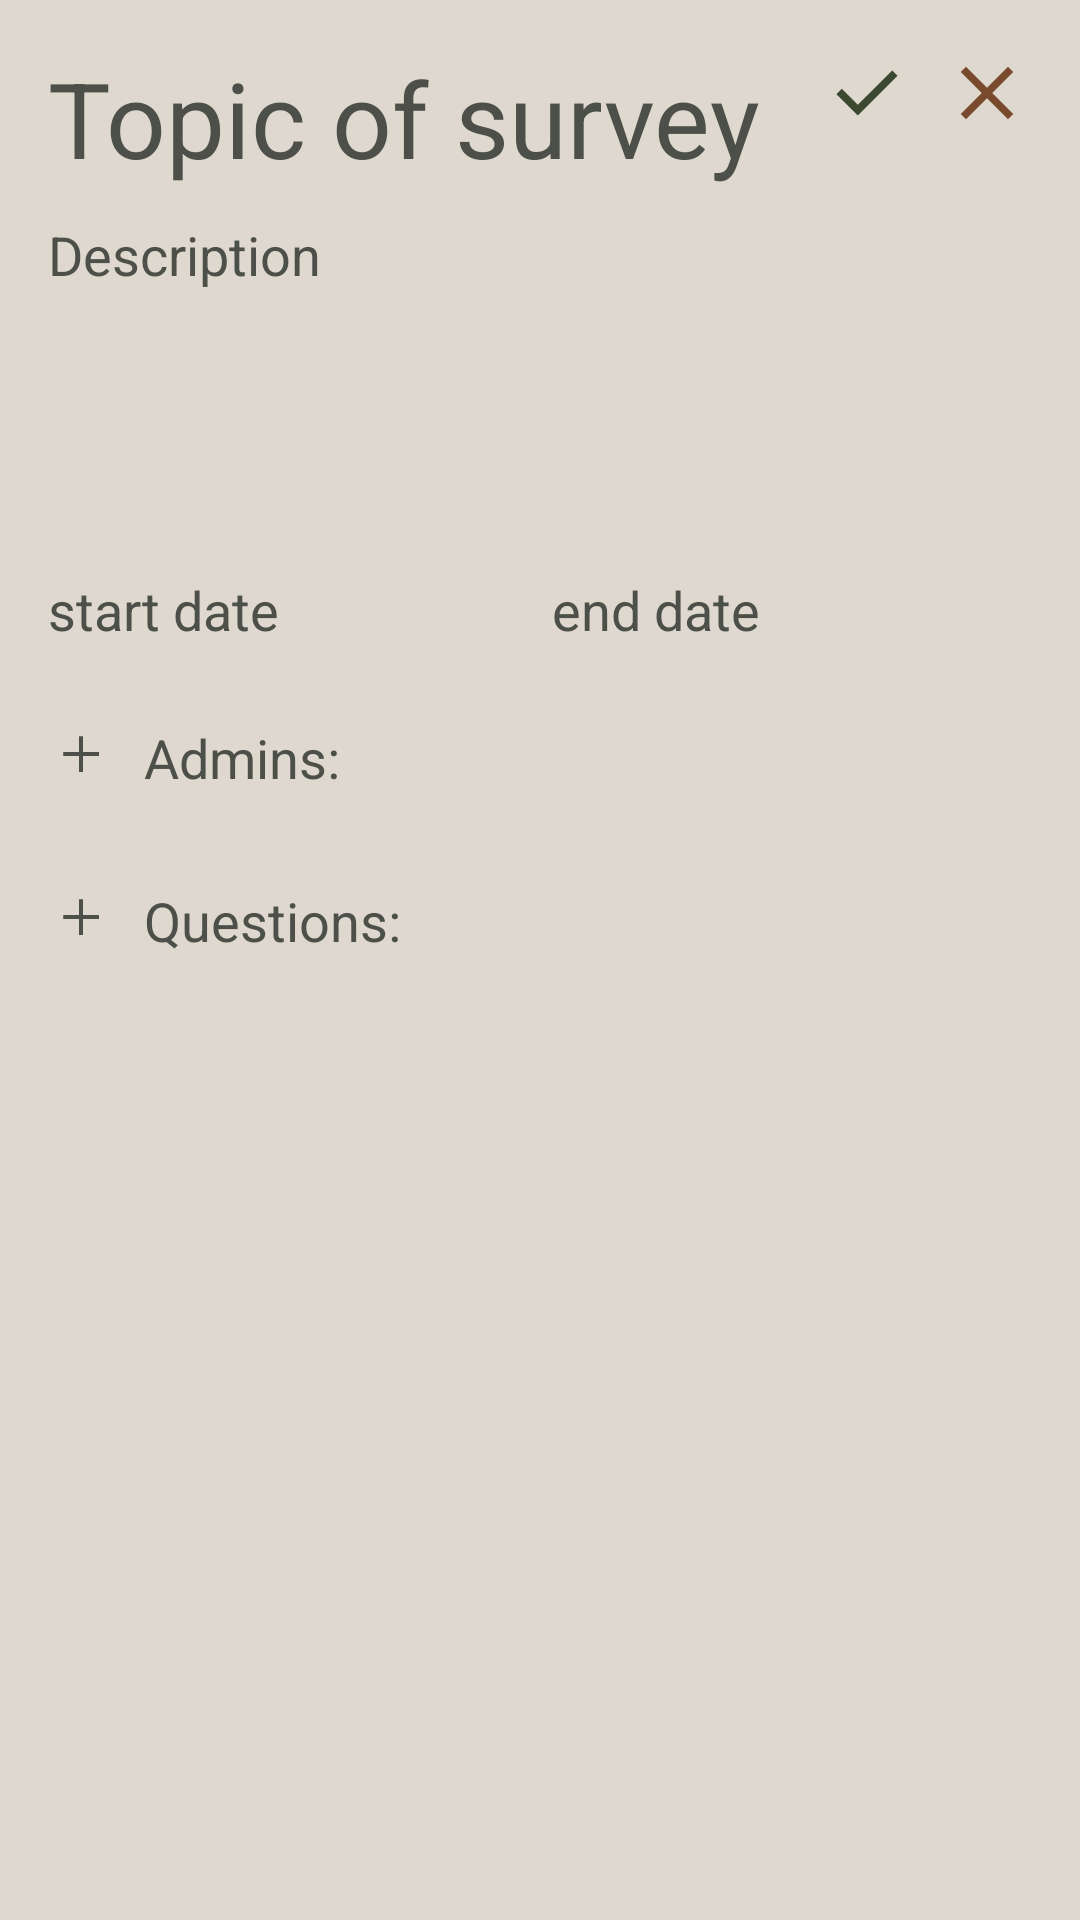

Named icons in this screenshot (1080 × 1920) and their bounding boxes, (x1,y1,x2,y2):
add: (63,736,99,772), (63,899,99,935)
close: (961,67,1013,119)
save: (836,70,898,116)
